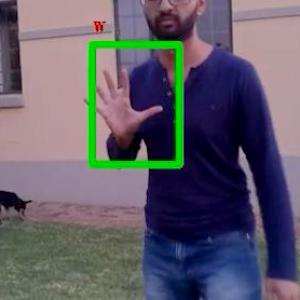follow_hand: (79, 63, 164, 142)
